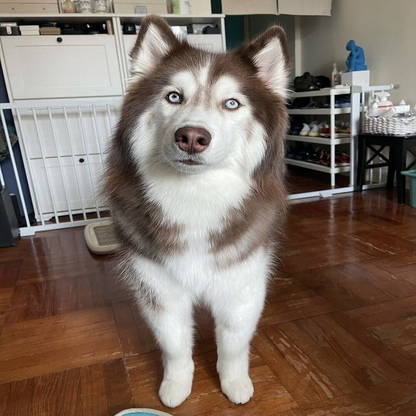husky: (95, 11, 298, 408)
